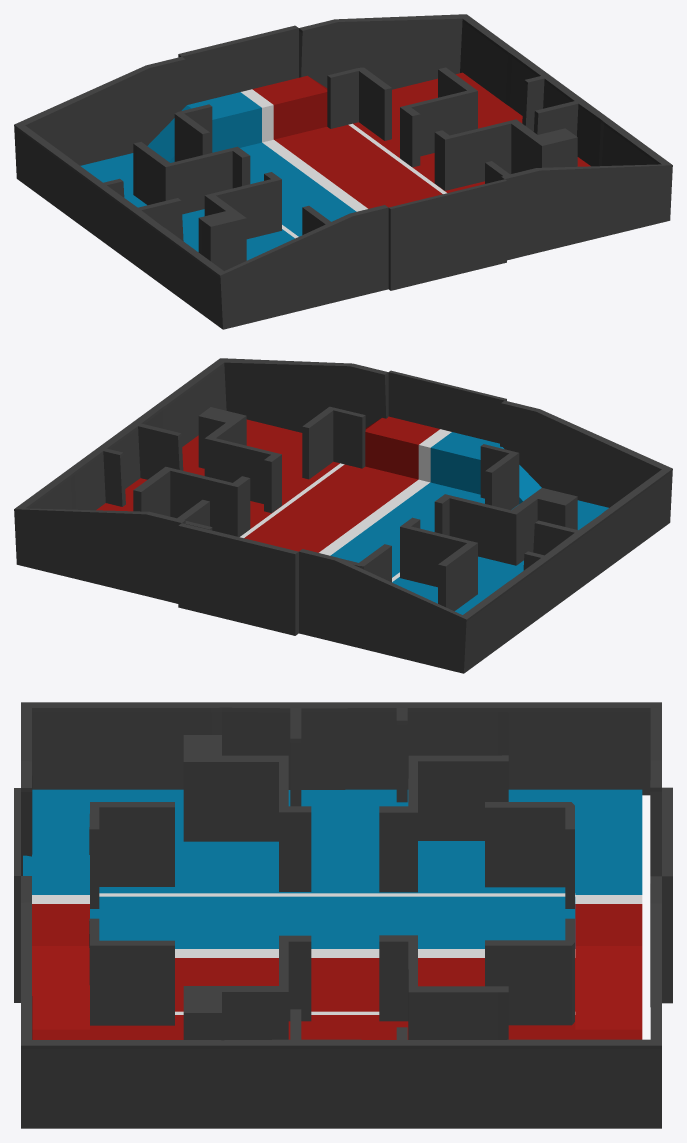
The model's file is GadeRamp.fbx.
3 renders of one model, top to bottom at view 1: azimuth 30°, elevation 25°; view 2: azimuth 150°, elevation 25°; view 3: azimuth 270°, elevation 25°, orthographic. The views are drawn at different scales.
Visible parts, largest first — view 1: Backup\.002, Backup\.003, Backup\.005, Backup\.013, Backup\.010, Backup\.012, Backup\.011, Backup\.007, Backup\.004, Backup\.009; view 2: Backup\.002, Backup\.003, Backup\.006, Backup\.012, Backup\.013, Backup\.011, Backup\.010, Backup\.008, Backup\.009, Backup\.004, Backup\.007; view 3: Backup\.002, Backup\.003, Backup\.012, Backup\.005, Backup\.010, Backup\.006, Backup\.011, Backup\.013, Backup\.004, Backup\.008, Backup\.009, Backup\.007.
Part boxes in pixels (bbox=[...]): Backup\.002: bbox=[14, 14, 672, 329]; Backup\.003: bbox=[80, 72, 590, 260]; Backup\.005: bbox=[147, 75, 327, 162]; Backup\.013: bbox=[434, 119, 577, 190]; Backup\.010: bbox=[133, 142, 250, 214]; Backup\.012: bbox=[198, 172, 281, 270]; Backup\.011: bbox=[400, 67, 477, 167]; Backup\.007: bbox=[327, 67, 391, 140]; Backup\.004: bbox=[174, 104, 212, 161]; Backup\.009: bbox=[302, 205, 330, 234]; Backup\.002: bbox=[14, 358, 672, 673]; Backup\.003: bbox=[96, 419, 608, 614]; Backup\.006: bbox=[365, 416, 541, 503]; Backup\.012: bbox=[434, 488, 577, 565]; Backup\.013: bbox=[198, 407, 281, 513]; Backup\.011: bbox=[133, 466, 250, 536]; Backup\.010: bbox=[400, 517, 477, 611]; Backup\.008: bbox=[302, 406, 365, 479]; Backup\.009: bbox=[480, 444, 519, 509]; Backup\.004: bbox=[339, 544, 391, 582]; Backup\.007: bbox=[177, 499, 212, 530]; Backup\.002: bbox=[14, 702, 672, 1128]; Backup\.003: bbox=[32, 789, 642, 1039]; Backup\.012: bbox=[183, 735, 311, 891]; Backup\.005: bbox=[575, 854, 642, 1029]; Backup\.010: bbox=[379, 755, 508, 892]; Backup\.006: bbox=[23, 854, 89, 1029]; Backup\.011: bbox=[379, 935, 508, 1039]; Backup\.013: bbox=[183, 935, 311, 1040]; Backup\.004: bbox=[485, 802, 574, 908]; Backup\.008: bbox=[89, 918, 174, 1025]; Backup\.009: bbox=[89, 802, 174, 908]; Backup\.007: bbox=[485, 918, 574, 1025].
Bounding box in the file's own units: 219 × 37.84 × 178.
